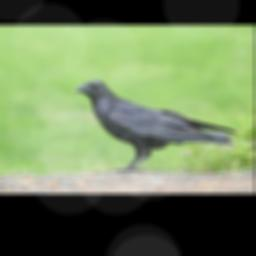Crow: (74, 79, 239, 173)
